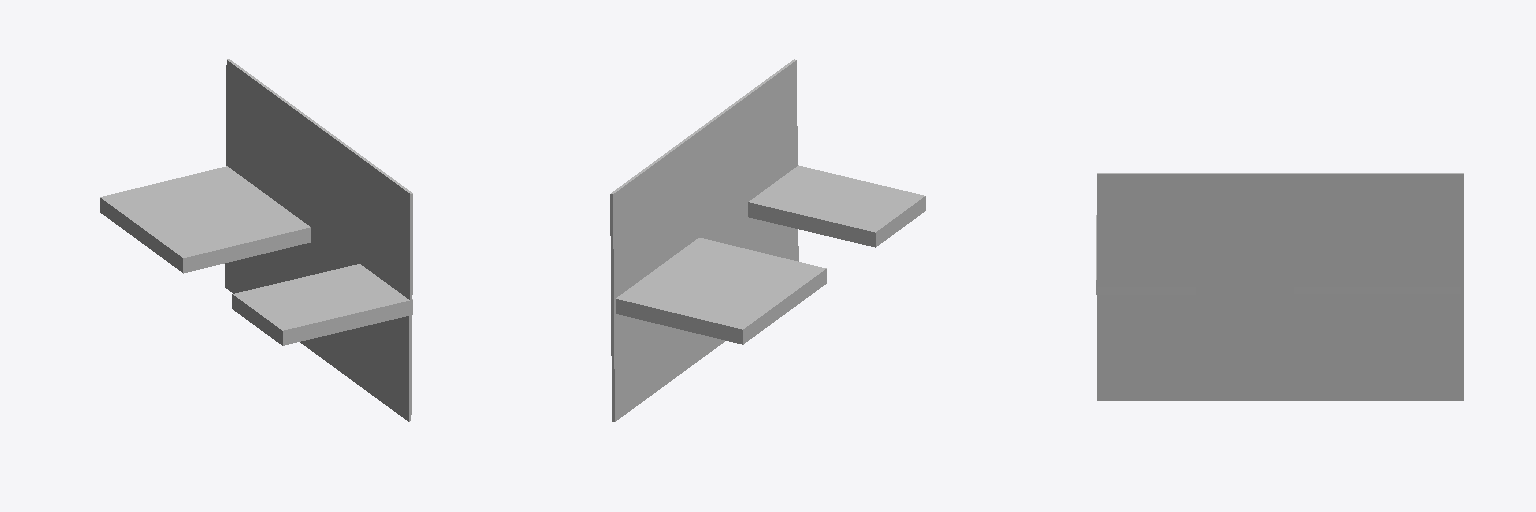
File: less_tight_env.obj
3 views of the same model, side by side, from view 1: azimuth 30°, elevation 25°; view 2: azimuth 150°, elevation 25°; view 3: azimuth 270°, elevation 25° (orthographic).
Visible parts, largest first — view 1: Cube, Cube.001, Cube.002; view 2: Cube, Cube.001, Cube.002; view 3: Cube, Cube.001, Cube.002.
Part boxes in pixels (left/top/right/bottom): Cube: left=225, top=59, right=412, bottom=421; Cube.001: left=100, top=166, right=310, bottom=273; Cube.002: left=232, top=264, right=412, bottom=345; Cube: left=610, top=59, right=798, bottom=421; Cube.001: left=616, top=238, right=826, bottom=344; Cube.002: left=748, top=165, right=925, bottom=247; Cube: left=1097, top=173, right=1463, bottom=400; Cube.001: left=1294, top=287, right=1460, bottom=293; Cube.002: left=1096, top=215, right=1195, bottom=294.
Size of the model in its own units: 0.9068 by 1.5 by 2.21.